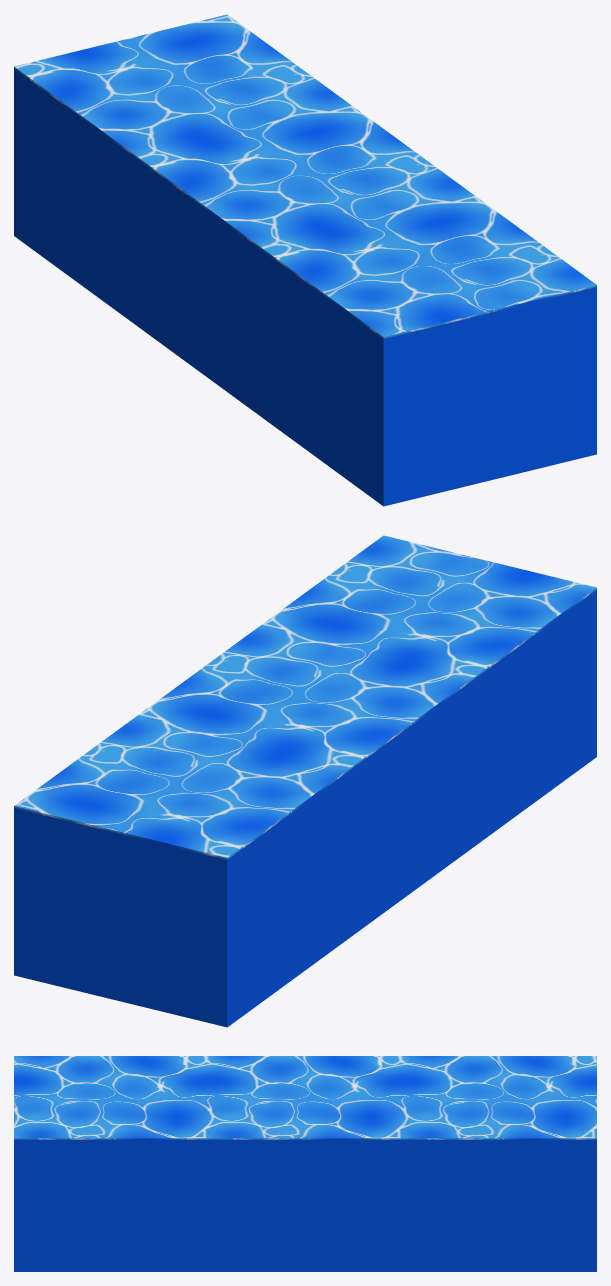
The model's file is MG-ChJ-CS-09ShuiMian-3.FBX.
The picture shows the model from 3 angles, top to bottom: view 1: azimuth 30°, elevation 25°; view 2: azimuth 150°, elevation 25°; view 3: azimuth 270°, elevation 25°; orthographic projection. The views are drawn at different scales.
Visible parts, largest first — view 1: MG-ChJ-CS-09ShuiMian-3; view 2: MG-ChJ-CS-09ShuiMian-3; view 3: MG-ChJ-CS-09ShuiMian-3.
Part boxes in pixels (bbox=[...]): MG-ChJ-CS-09ShuiMian-3: bbox=[14, 14, 596, 506]; MG-ChJ-CS-09ShuiMian-3: bbox=[14, 535, 596, 1027]; MG-ChJ-CS-09ShuiMian-3: bbox=[14, 1056, 596, 1271].
Size of the model in its own units: 39.37 by 29.88 by 118.
